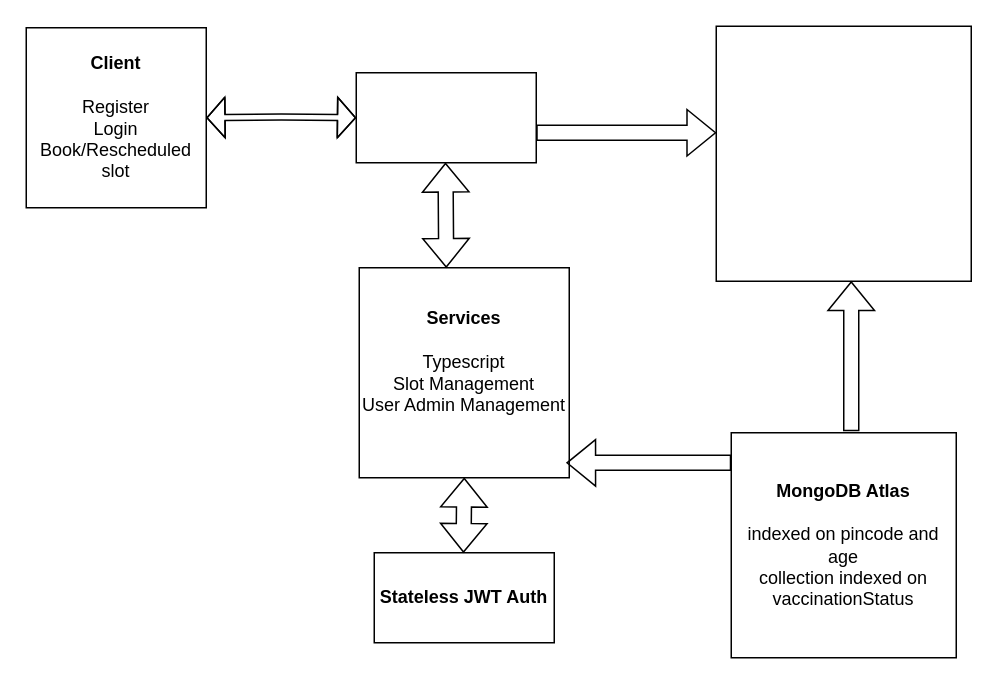
Some shapes in this 998 by 684 pixel diagram are drawn without their labels. Each missing label, with the centre of its shape:
"Express.js API Server Stateless JWT Auth" goes at point 445,117.
"MongoDB Atlas indexed on pincode + age collection indexed on vaccinationStatus" goes at point 843,153.
